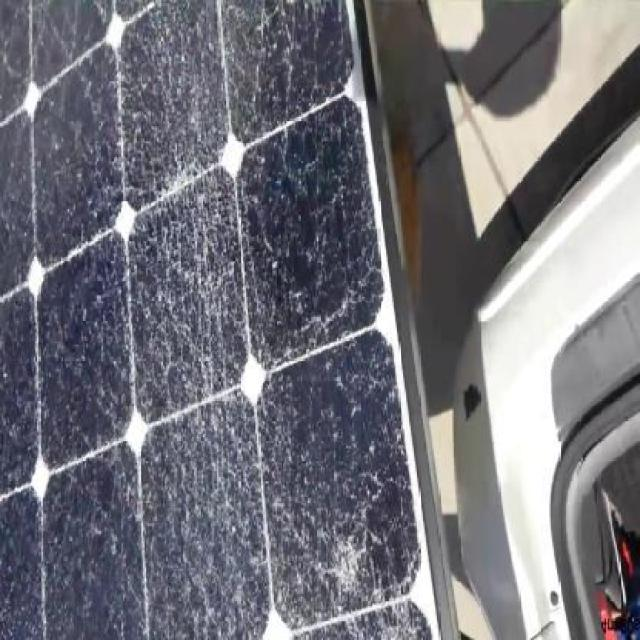cracked: (2, 3, 450, 640)
